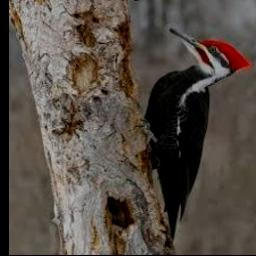Woodpecker: (143, 27, 252, 243)
